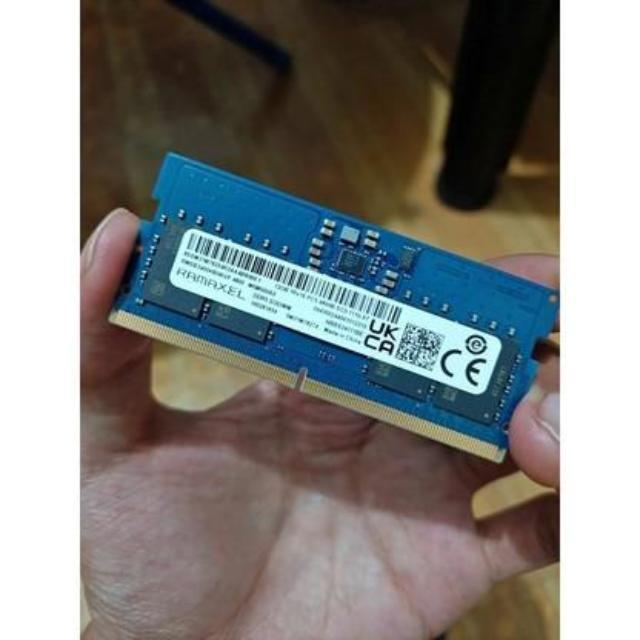RAM: (104, 149, 562, 466)
